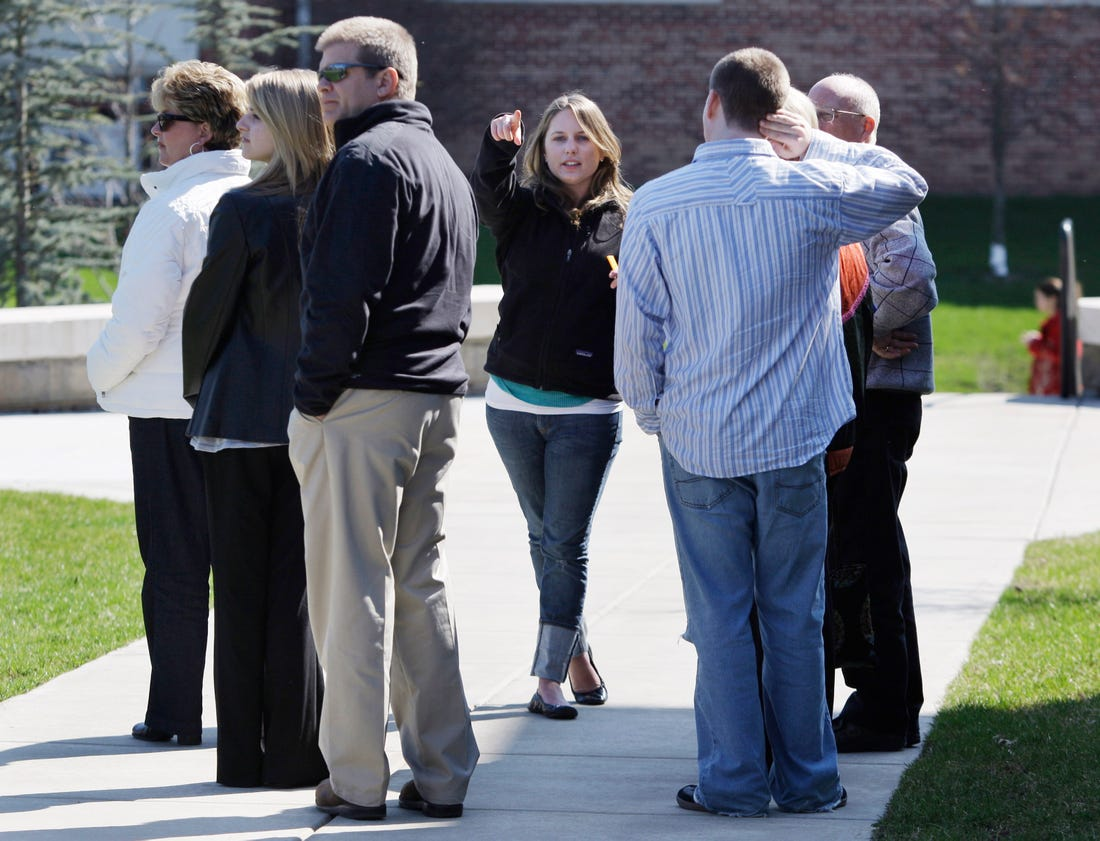Person: (614, 46, 933, 818), (285, 15, 483, 822), (83, 59, 254, 750), (181, 68, 334, 789), (468, 91, 635, 723)
